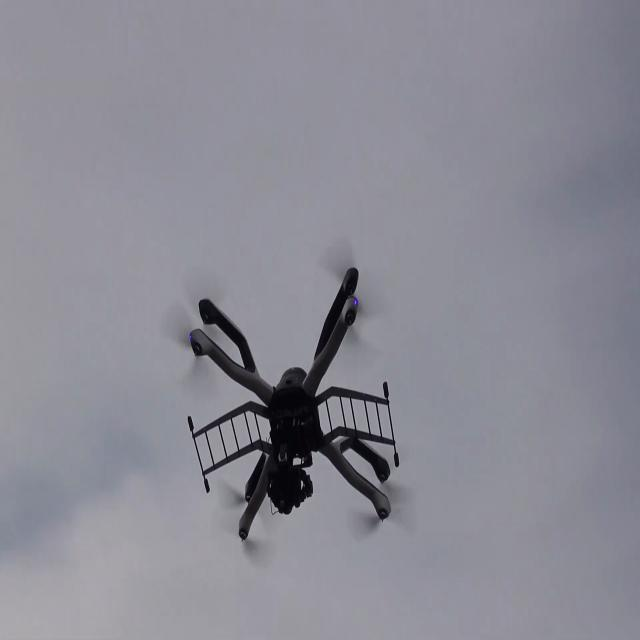drone: (161, 245, 389, 565)
